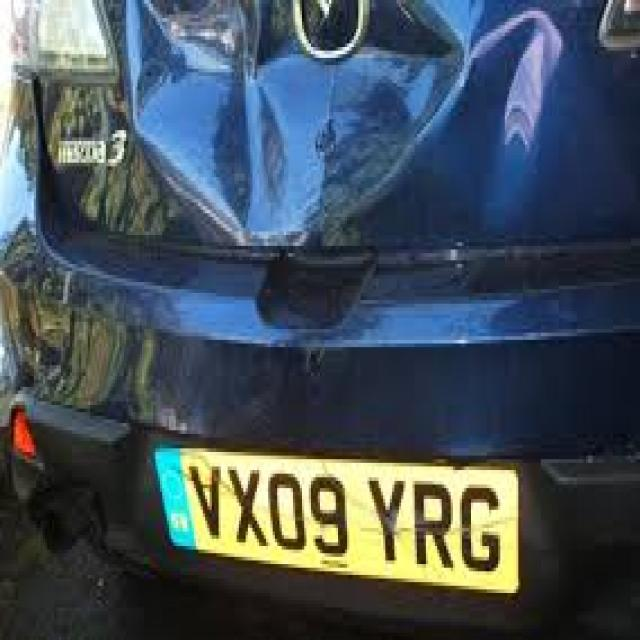minor: (49, 0, 608, 289)
